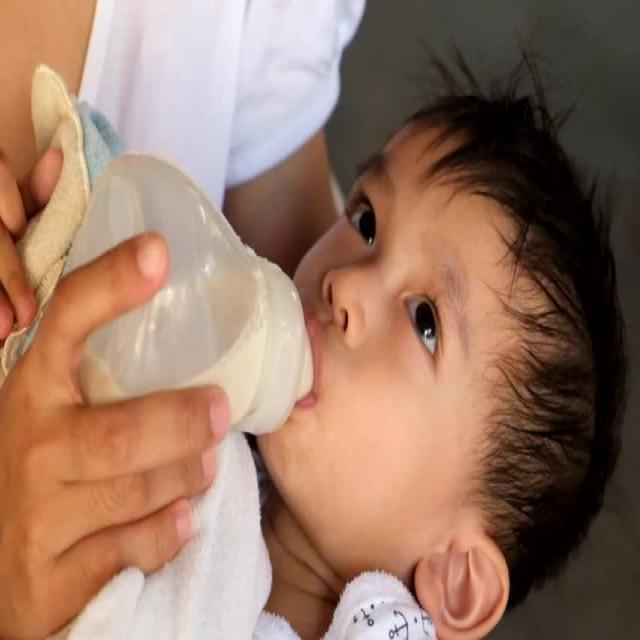child: (78, 79, 630, 635)
